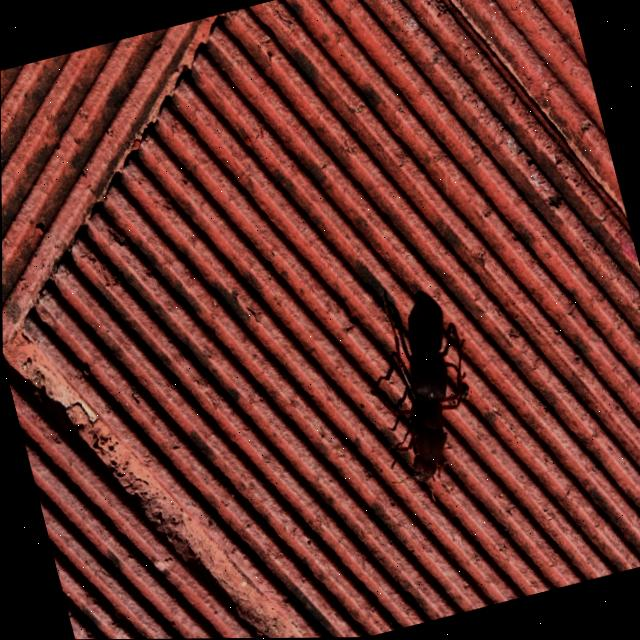Alive-Female-Dealate: (343, 270, 502, 513)
